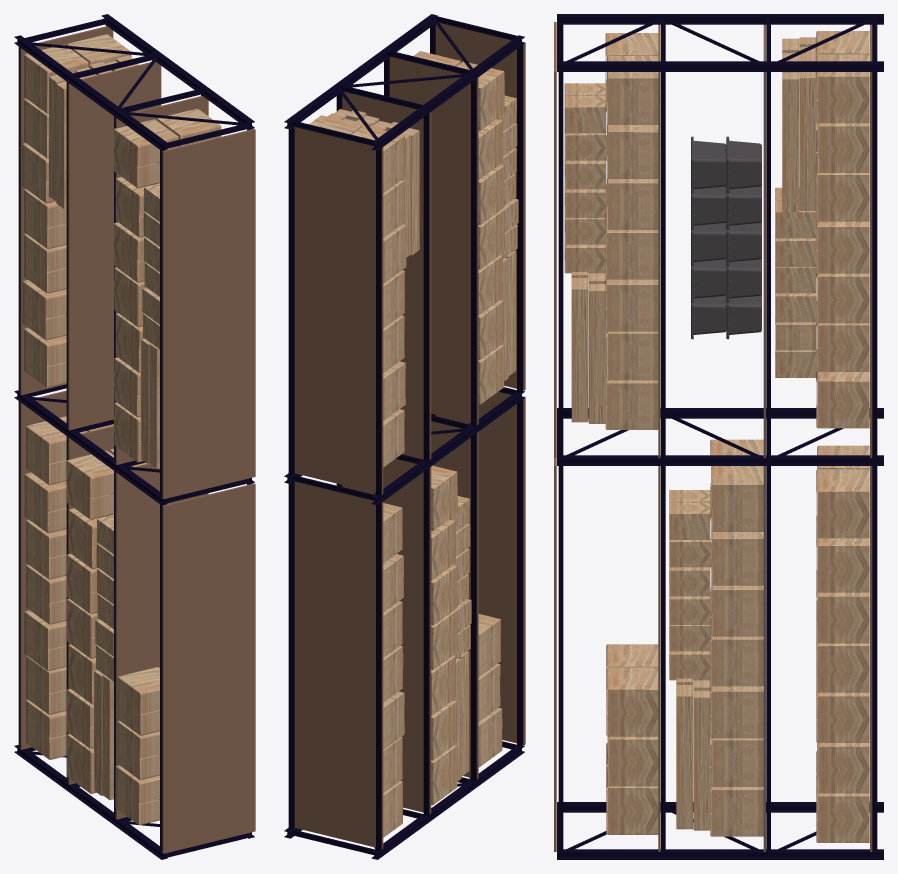
File: warehouse_shelf_type_A.glb
3 views of the same model, side by side, from view 1: azimuth 30°, elevation 25°; view 2: azimuth 150°, elevation 25°; view 3: azimuth 270°, elevation 25° (orthographic). The views are drawn at different scales.
Visible parts, largest first — view 1: 07. lemari.005; view 2: 07. lemari.005; view 3: 07. lemari.005.
Part boxes in pixels (<box>): 07. lemari.005: <box>14,14,255,859</box>; 07. lemari.005: <box>284,14,525,859</box>; 07. lemari.005: <box>554,14,883,859</box>.
Size of the model in its own units: 1.21 by 8.73 by 3.28.
4 materials, 1 textured.
